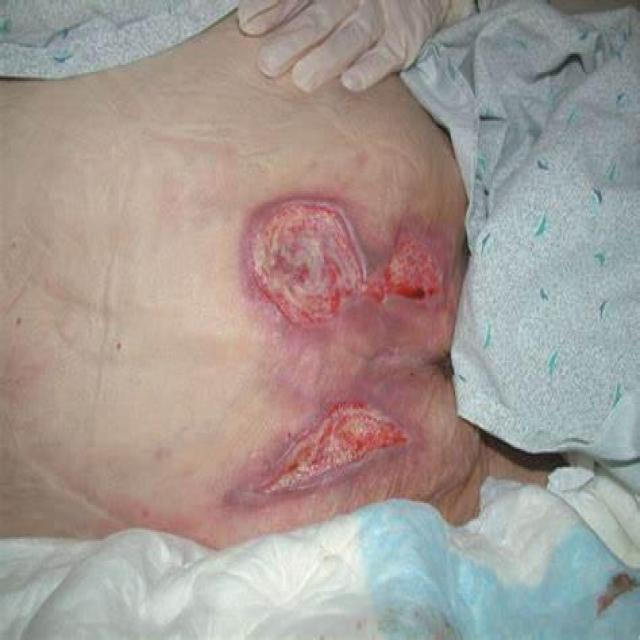stage-3: (250, 199, 441, 326), (261, 404, 406, 492)
